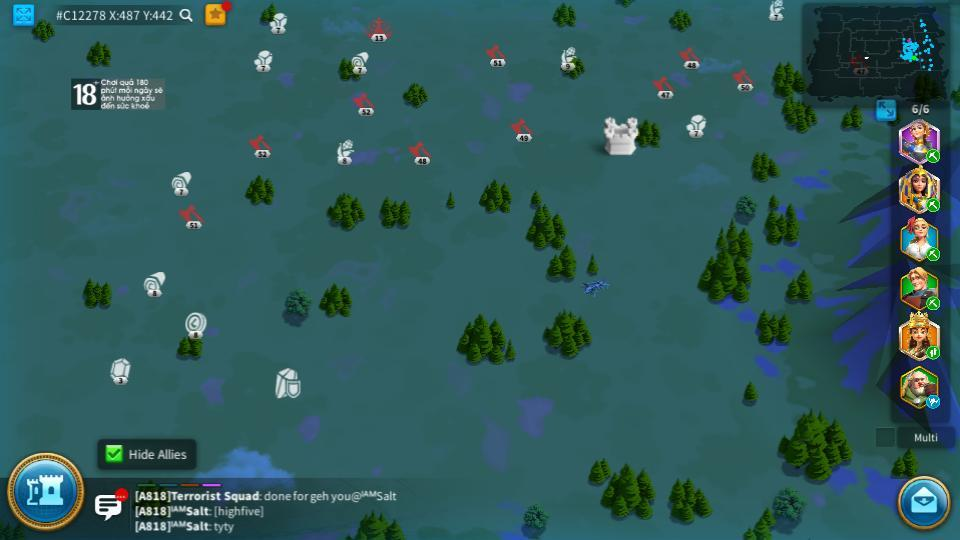gem-z-out: (108, 358, 132, 384)
march_marching: (925, 197, 941, 212), (925, 150, 942, 162), (925, 347, 941, 359), (925, 297, 941, 308)
